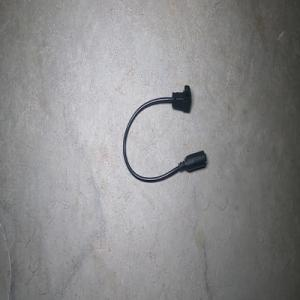Wire: (122, 84, 206, 182)
